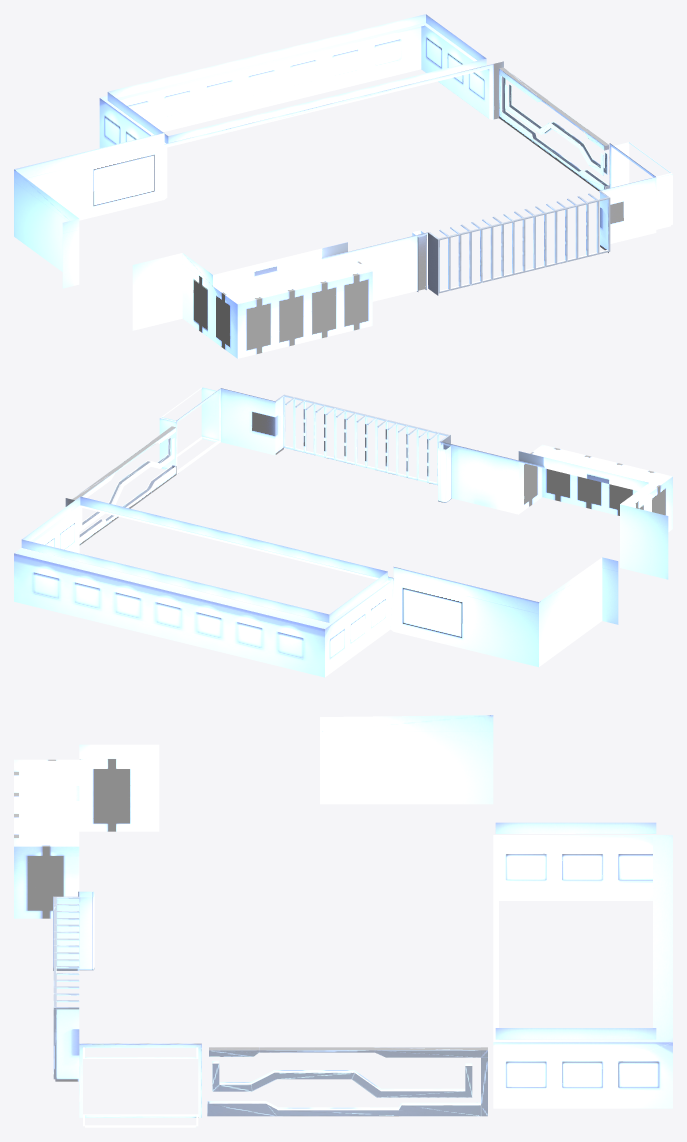
3 renders of one model, top to bottom at view 1: azimuth 30°, elevation 25°; view 2: azimuth 150°, elevation 25°; view 3: azimuth 270°, elevation 25°, orthographic. The views are drawn at different scales.
Visible parts, largest first — view 1: 蓝色墙体; view 2: 蓝色墙体; view 3: 蓝色墙体.
Part boxes in pixels (x1,y1,x2,y2): 蓝色墙体: (14, 14, 672, 358); 蓝色墙体: (14, 387, 672, 677); 蓝色墙体: (14, 715, 672, 1127).
Size of the model in its own units: 35.19 by 4.42 by 29.17.
